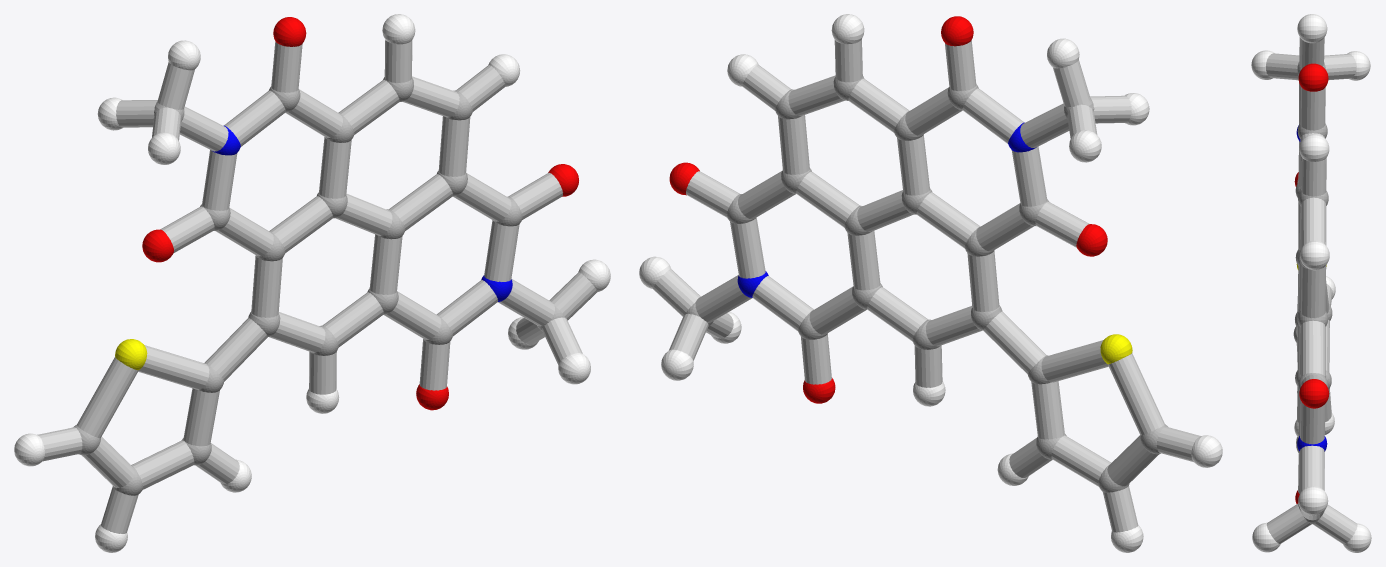
The model's file is Dimethyl_Naphthalene_Dicarboximide_Phi_5_Theta_180_Thiophene.glb.
The picture shows the model from 3 angles, left to right: view 1: azimuth 30°, elevation 25°; view 2: azimuth 150°, elevation 25°; view 3: azimuth 270°, elevation 25°; orthographic projection. The views are drawn at different scales.
Visible parts, largest first — view 1: grp14119, grp7241, grp1, grp12309, grp13757, grp11585; view 2: grp14119, grp7241, grp1, grp12309, grp11585, grp13757; view 3: grp14119, grp7241, grp12309, grp1, grp11585.
Boxes of the visible parts, x1,y1,x2,y2 form: grp14119: [37, 40, 597, 533]; grp7241: [14, 14, 610, 552]; grp1: [73, 77, 565, 495]; grp12309: [142, 17, 578, 410]; grp13757: [115, 339, 147, 370]; grp11585: [212, 125, 512, 301]; grp14119: [653, 39, 1200, 532]; grp7241: [639, 14, 1222, 552]; grp1: [685, 76, 1167, 492]; grp12309: [669, 16, 1107, 403]; grp11585: [737, 122, 1036, 297]; grp13757: [1100, 334, 1132, 364]; grp14119: [1265, 37, 1357, 544]; grp7241: [1251, 14, 1371, 552]; grp12309: [1294, 63, 1329, 503]; grp1: [1293, 62, 1332, 523]; grp11585: [1296, 125, 1327, 451].
Bounding box in the file's own units: 12.34 × 9.94 × 2.41.
